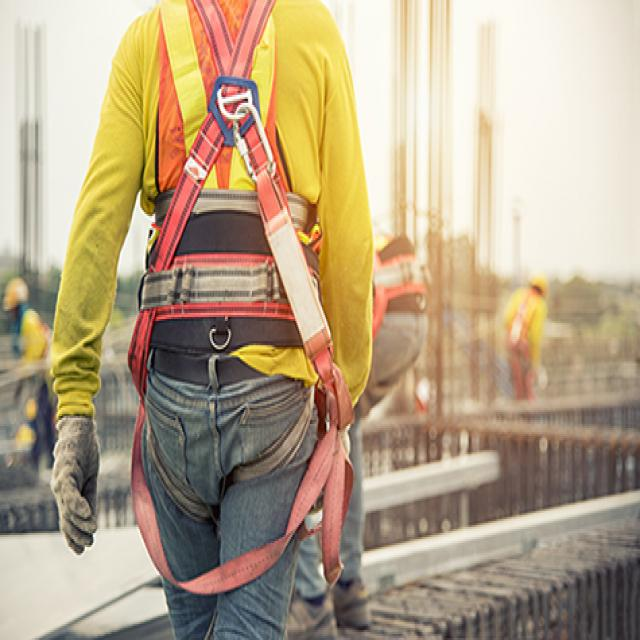Reflective-Jacket: (68, 10, 382, 400), (500, 282, 551, 383)
Safety-Helmet: (524, 264, 554, 301)
